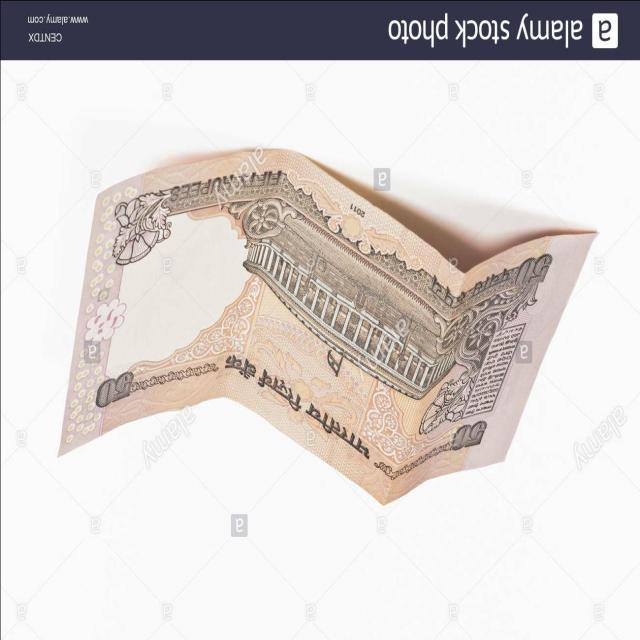50IndianRupees: (52, 146, 596, 504)
